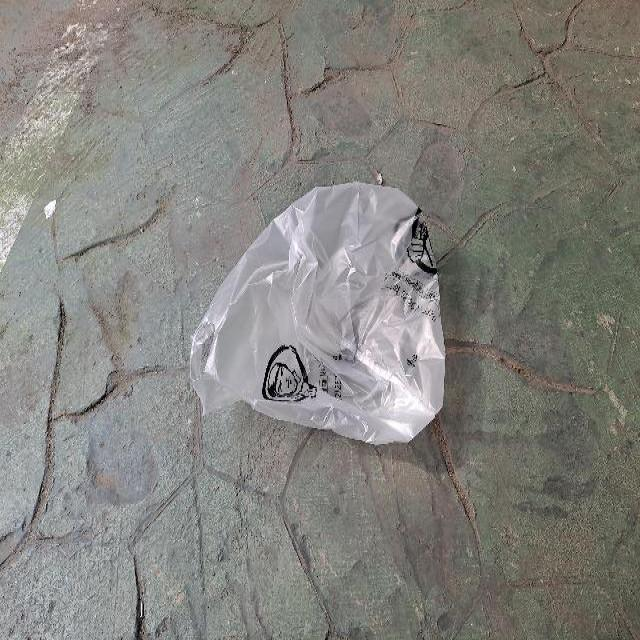plastic bag: (188, 178, 452, 450)
